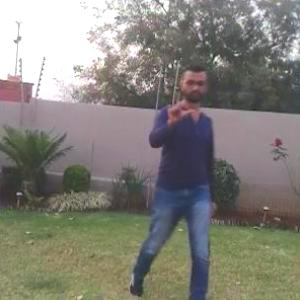land_hand: (158, 91, 196, 123)
